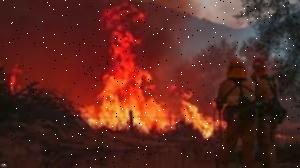fire: (82, 0, 215, 138)
